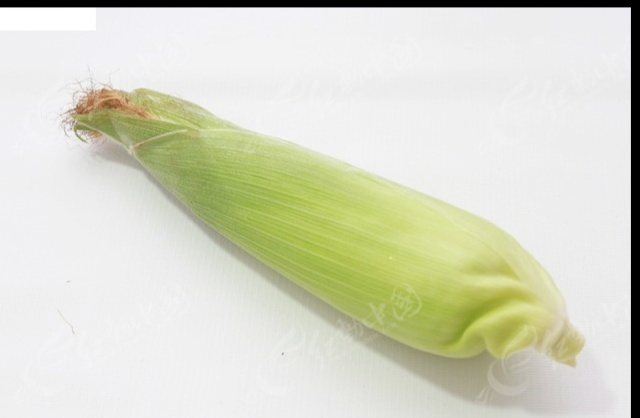corn_plant: (56, 66, 596, 377)
